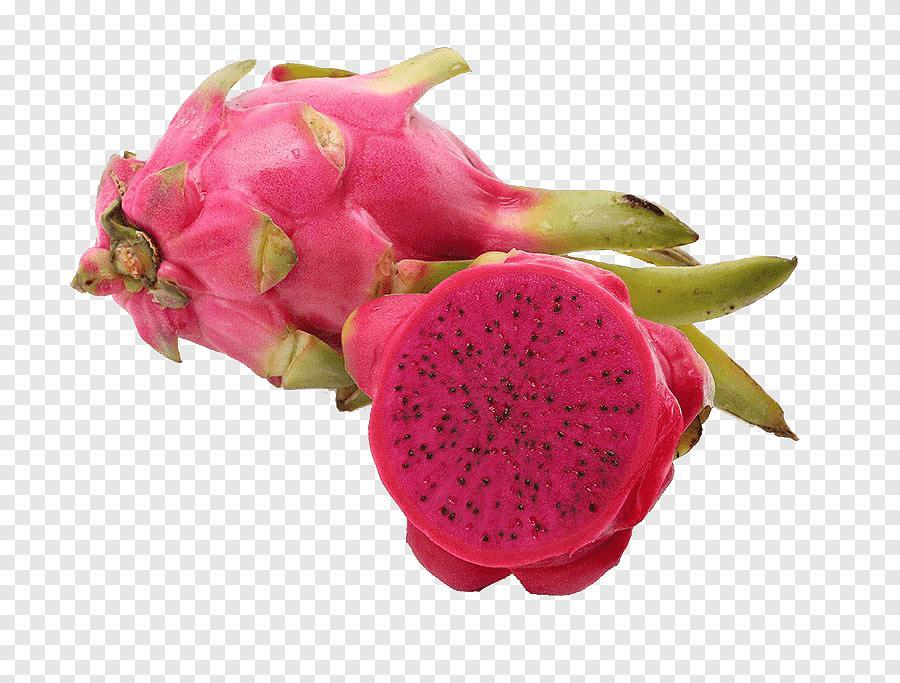dragon-fruit: (92, 76, 505, 392), (366, 261, 661, 570)
